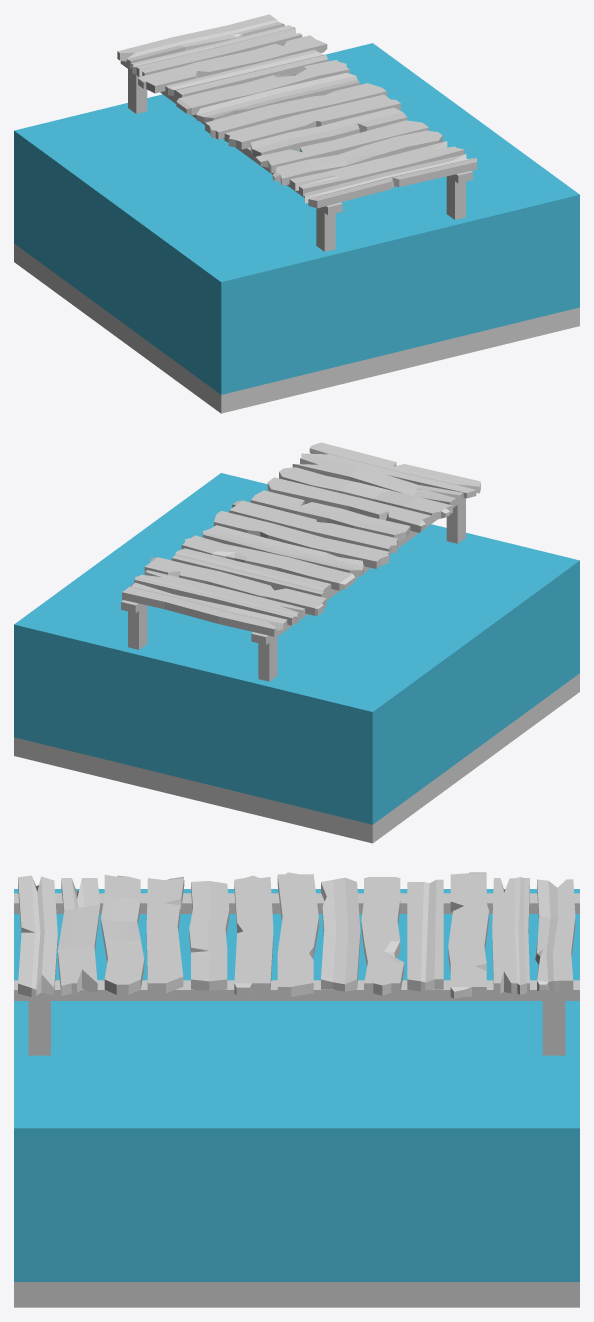
Rendered from PortUD.fbx.
3 views of the same model, one above another, from view 1: azimuth 30°, elevation 25°; view 2: azimuth 150°, elevation 25°; view 3: azimuth 270°, elevation 25° (orthographic). The views are drawn at different scales.
Visible parts, largest first — view 1: PortUD; view 2: PortUD; view 3: PortUD.
Part boxes in pixels (box(x1,y1,x2,y2)): PortUD: box(14, 14, 579, 413); PortUD: box(14, 442, 579, 843); PortUD: box(14, 872, 579, 1307).
Size of the model in its own units: 2 by 2 by 0.9999.
